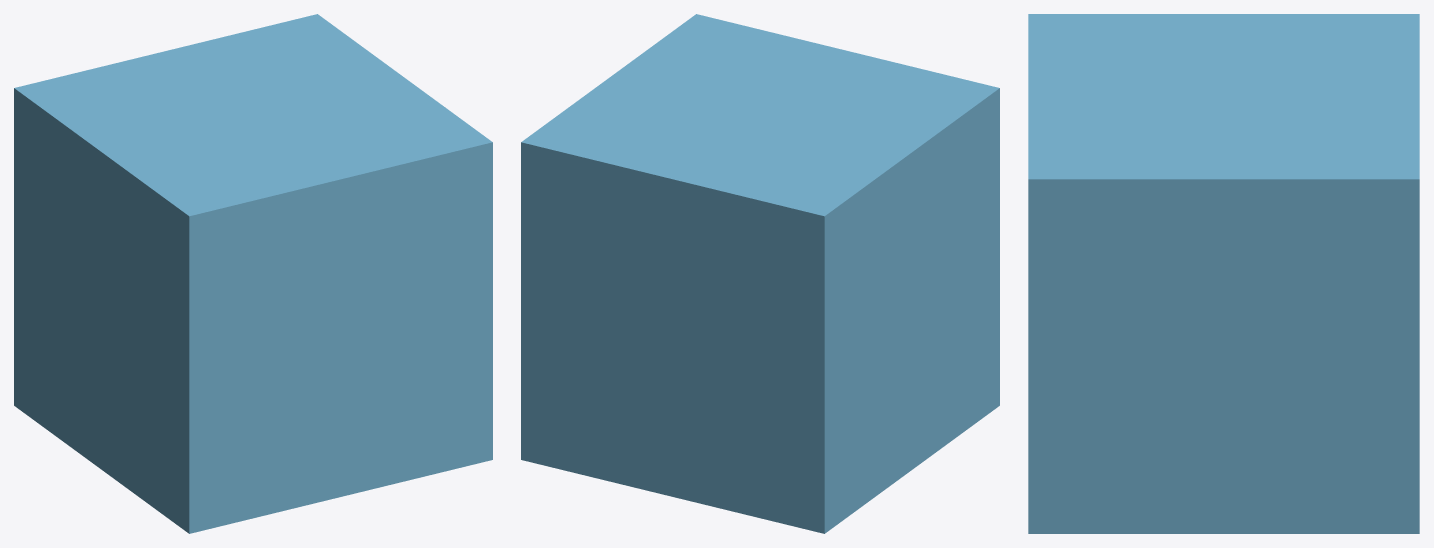
File: frozenchicken.gltf
3 views of the same model, side by side, from view 1: azimuth 30°, elevation 25°; view 2: azimuth 150°, elevation 25°; view 3: azimuth 270°, elevation 25° (orthographic). The views are drawn at different scales.
Parts seen in each view (by area): view 1: ice; view 2: ice; view 3: ice.
Part boxes in pixels (bbox=[...]): ice: bbox=[14, 14, 492, 533]; ice: bbox=[521, 14, 999, 533]; ice: bbox=[1028, 14, 1419, 533].
Bounding box in the file's own units: 1.75 × 1.75 × 1.75.
Materials: 1 (1 with a texture image).
